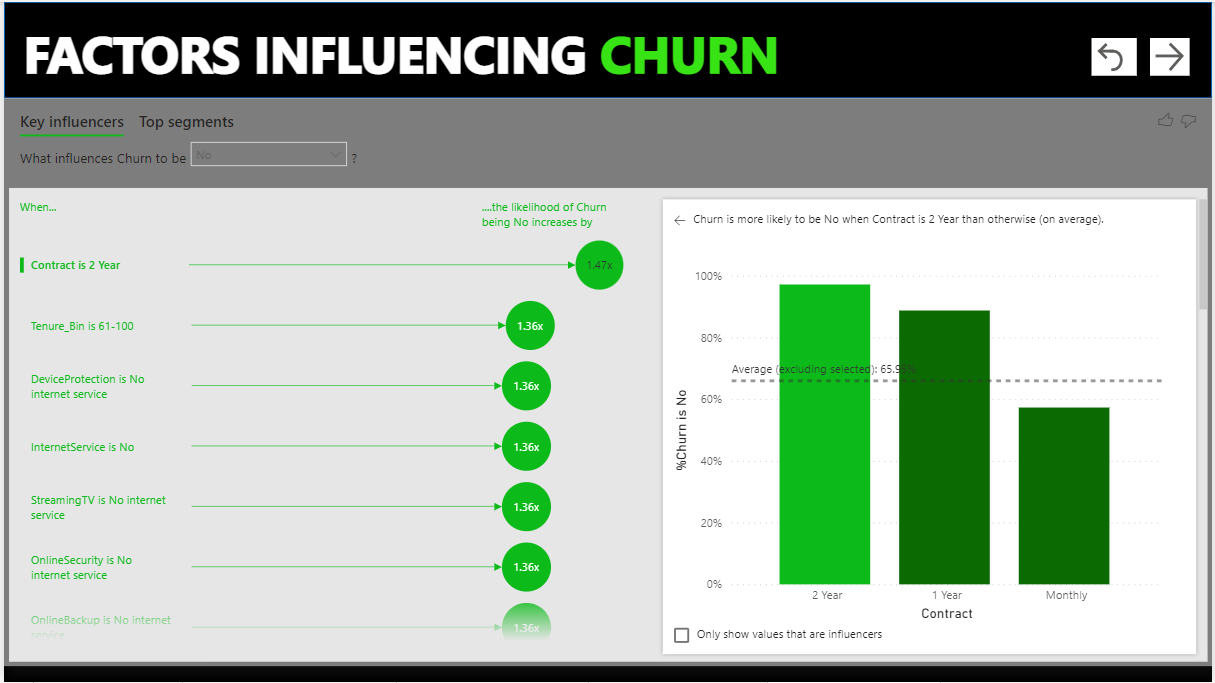

The page's visual inventory and layout, read from the dashboard file:
{"tool":"powerbi","page":{"name":"Churn Factors","canvas":[1280,720],"ordinal":4},"visuals":[{"type":"shape","box":[0,0,1280,102],"z":0},{"type":"textbox","box":[16,12,946,90],"z":1000},{"type":"actionButton","box":[1214,38,42,40],"z":2000},{"type":"actionButton","box":[1152,38,48,40],"z":3000},{"type":"keyDriversVisual","fields":{"Target":["Telco-Churn-Analysis.Churn"],"ExplainBy":["Telco-Churn-Analysis.Contract","Telco-Churn-Analysis.Dependents","Telco-Churn-Analysis.DeviceProtection","Telco-Churn-Analysis.gender","Telco-Churn-Analysis.InternetService","Sum(Telco-Churn-Analysis.MonthlyCharges)","Telco-Churn-Analysis.MultipleLines","Telco-Churn-Analysis.OnlineBackup","Telco-Churn-Analysis.OnlineSecurity","Telco-Churn-Analysis.PaperlessBilling","Telco-Churn-Analysis.Partner","Telco-Churn-Analysis.PaymentMethod"]},"box":[0,102,1280,602],"z":4000}]}

Visuals, with their boxes in screenshot pixels (x1, y1, x2, y2):
shape: pyautogui.locateOnScreen(6, 0, 1205, 95)
textbox: pyautogui.locateOnScreen(21, 11, 907, 95)
actionButton: pyautogui.locateOnScreen(1143, 36, 1182, 73)
actionButton: pyautogui.locateOnScreen(1085, 36, 1130, 73)
keyDriversVisual - Telco-Churn-Analysis.Churn x Telco-Churn-Analysis.Contract: pyautogui.locateOnScreen(6, 95, 1205, 659)
